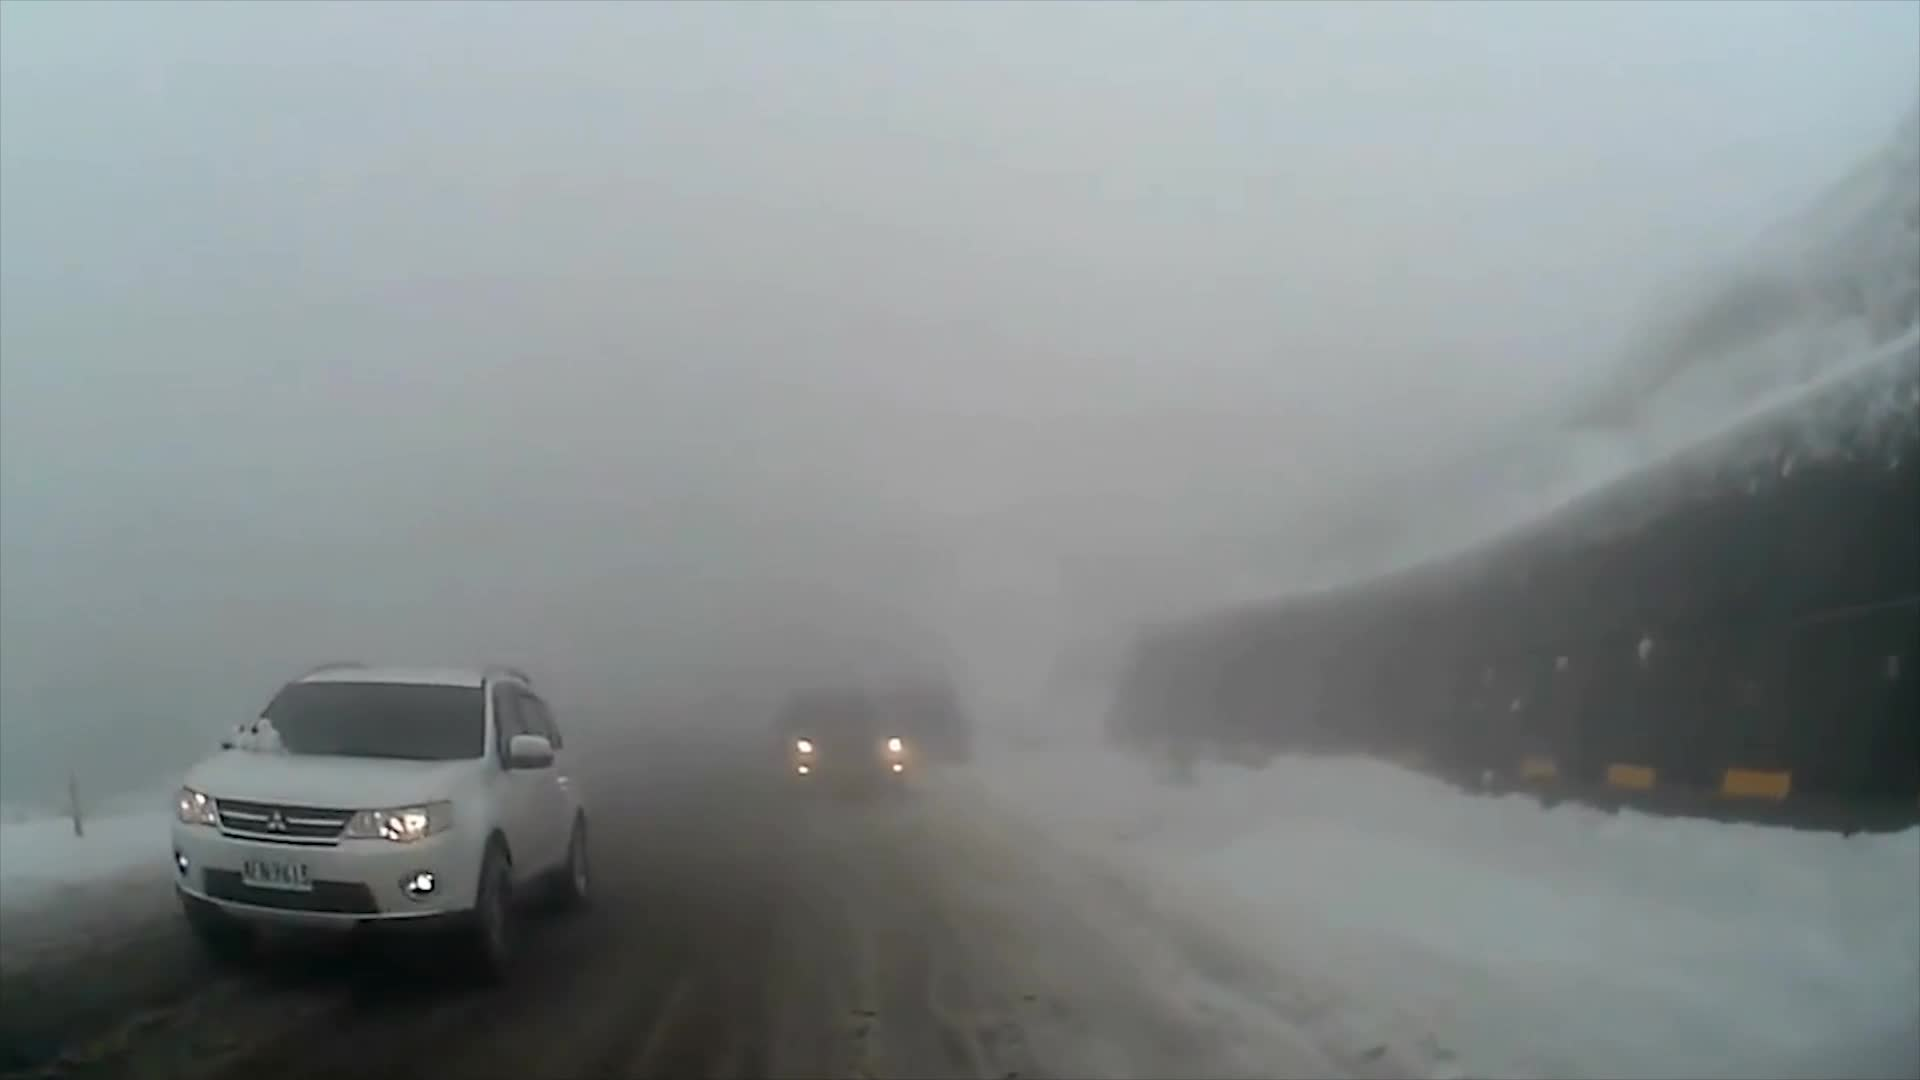vehicle: (162, 659, 592, 971), (767, 688, 911, 804)
